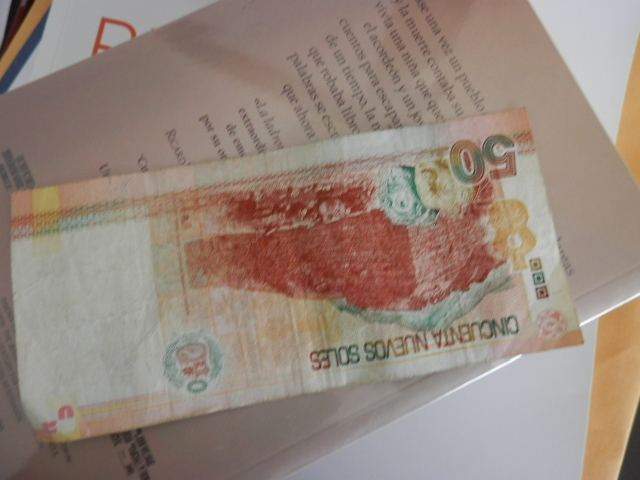B50: (27, 120, 583, 393)
